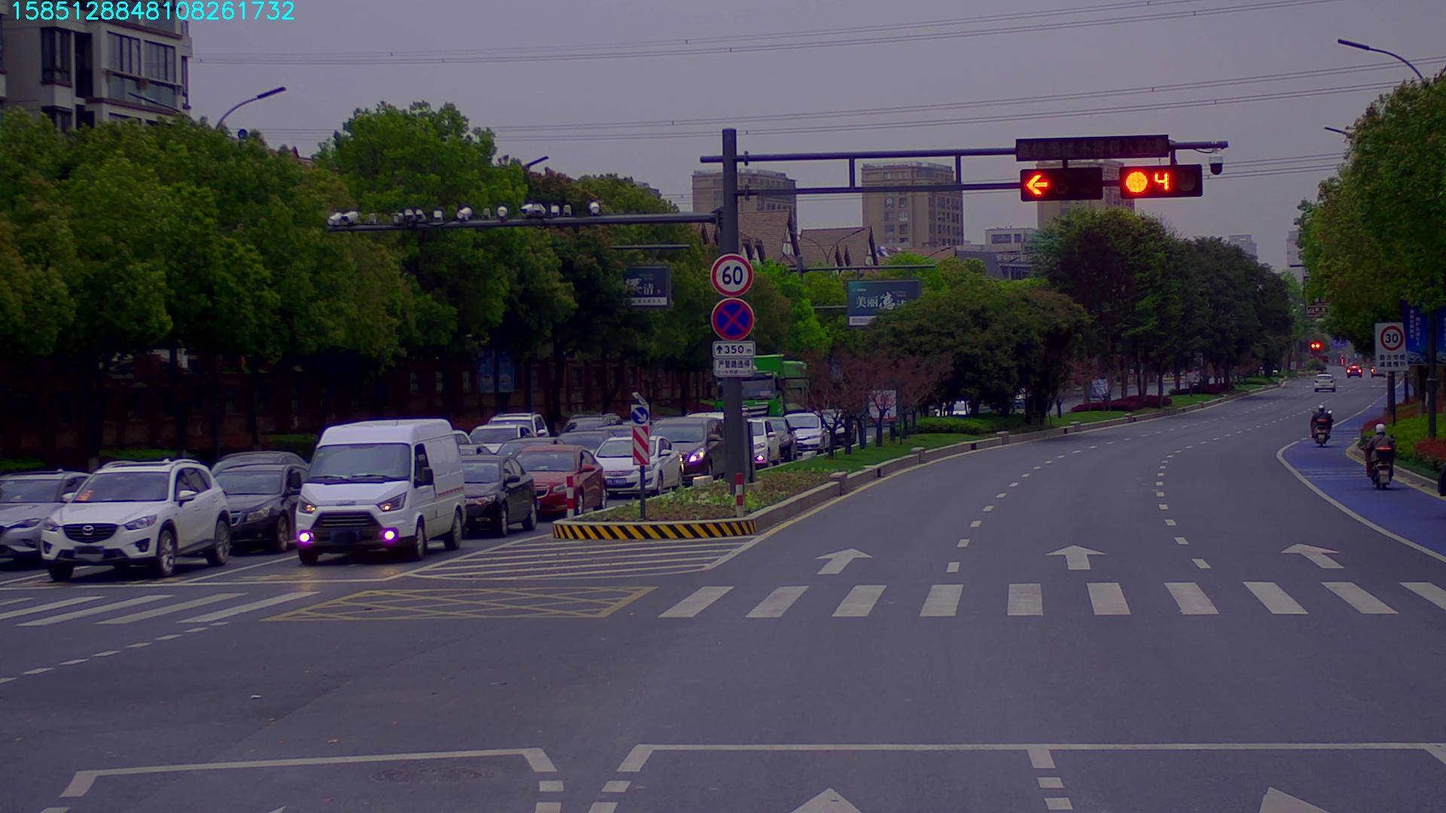red: (1118, 164, 1203, 199), (1020, 169, 1092, 191)
